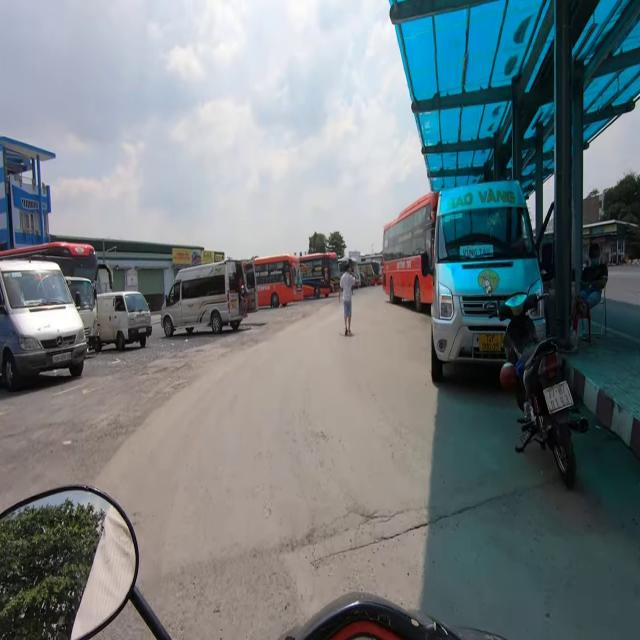bien_trang: (541, 378, 576, 415)
bien_vang: (480, 330, 502, 352)
